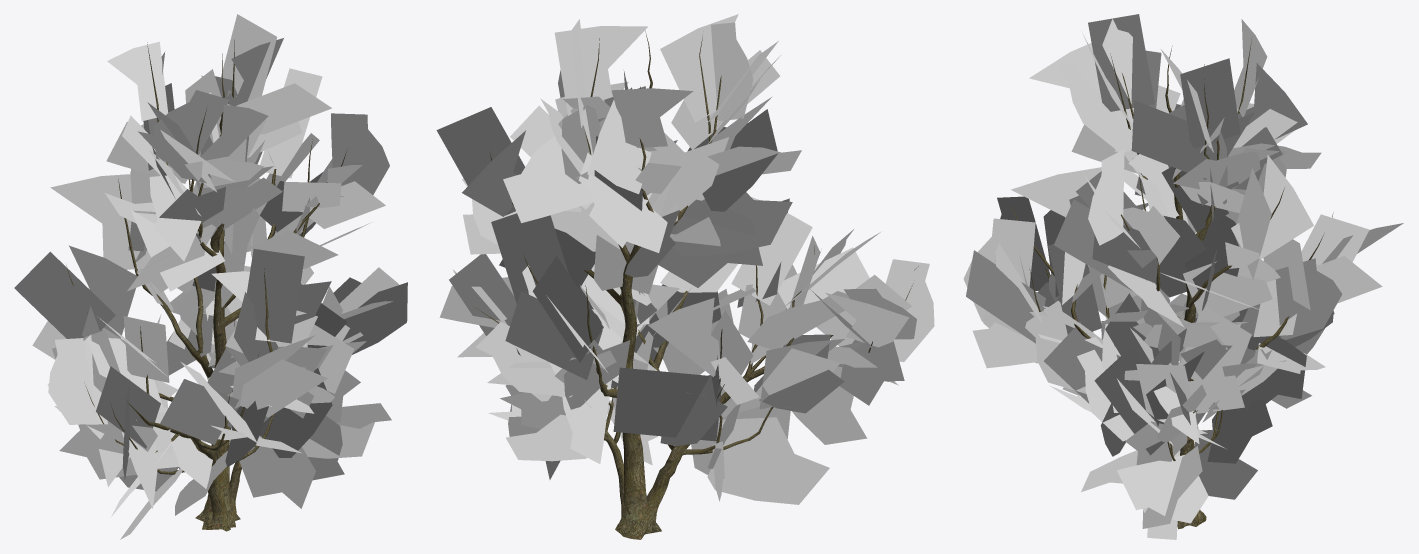
File: Tree_5506.fbx
3 views of the same model, side by side, from view 1: azimuth 30°, elevation 25°; view 2: azimuth 150°, elevation 25°; view 3: azimuth 270°, elevation 25° (orthographic). The views are drawn at different scales.
Visible parts, largest first — view 1: Tree_5506_Viaz_AT, Tree_5506_VIAZ_bARK; view 2: Tree_5506_Viaz_AT, Tree_5506_VIAZ_bARK; view 3: Tree_5506_Viaz_AT, Tree_5506_VIAZ_bARK.
Boxes of the visible parts, <box> form: Tree_5506_Viaz_AT: <box>14,14,407,539</box>; Tree_5506_VIAZ_bARK: <box>66,40,347,531</box>; Tree_5506_Viaz_AT: <box>436,14,934,504</box>; Tree_5506_VIAZ_bARK: <box>475,30,918,539</box>; Tree_5506_Viaz_AT: <box>963,14,1403,539</box>; Tree_5506_VIAZ_bARK: <box>1010,39,1333,529</box>.
Size of the model in its own units: 91.6 by 105 by 86.9.
